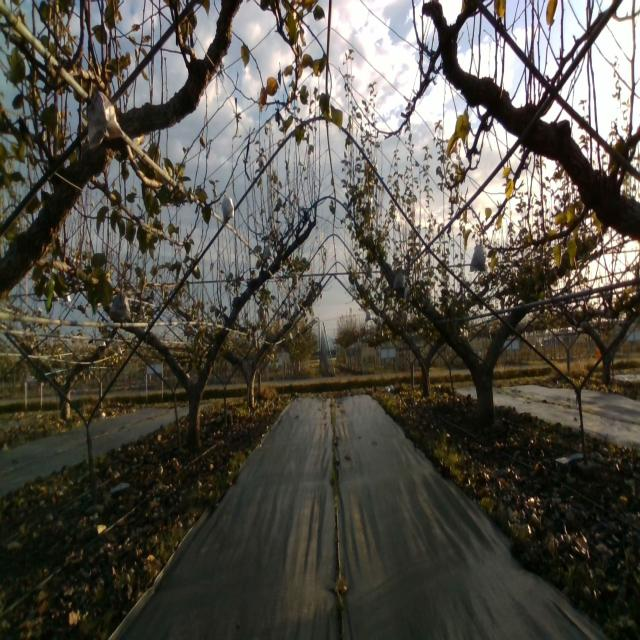pearbags: (87, 85, 125, 150), (469, 238, 487, 273), (222, 191, 236, 222), (392, 266, 404, 292), (263, 239, 275, 263)
